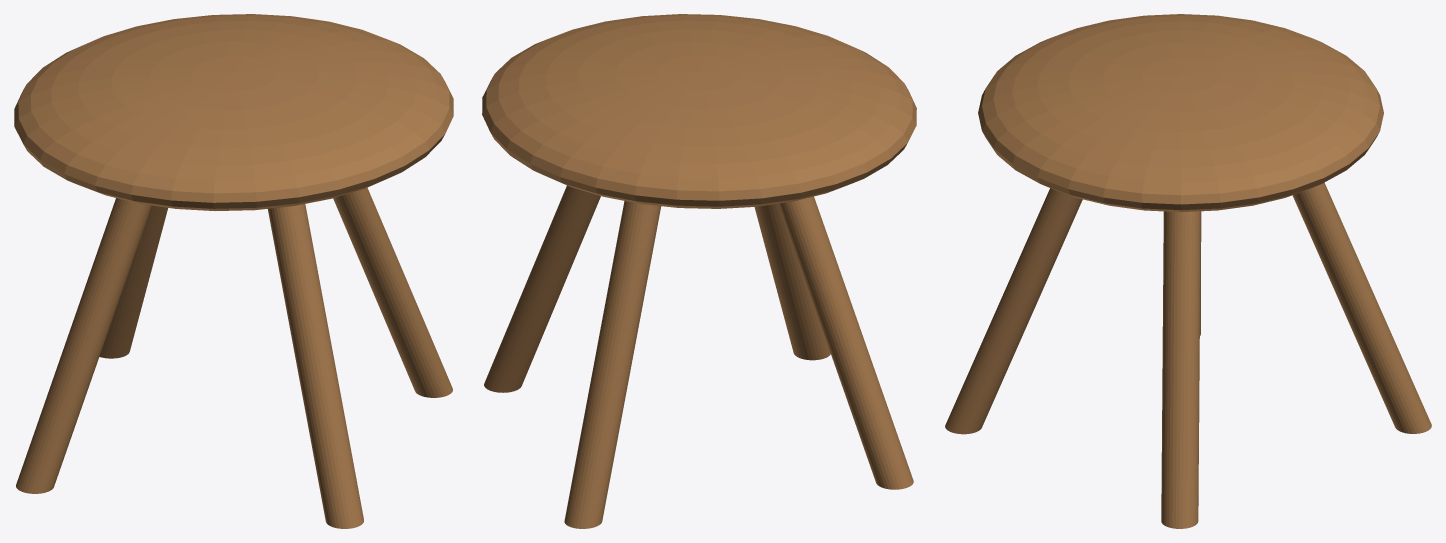
File: stol.glb
The picture shows the model from 3 angles, left to right: view 1: azimuth 30°, elevation 25°; view 2: azimuth 150°, elevation 25°; view 3: azimuth 270°, elevation 25°; orthographic projection. The views are drawn at different scales.
Parts seen in each view (by area): view 1: Sphere, Cylinder004, Cylinder001, Cylinder, Cylinder002; view 2: Sphere, Cylinder002, Cylinder001, Cylinder, Cylinder004; view 3: Sphere, Cylinder, Cylinder002, Cylinder004.
Boxes of the visible parts, x1,y1,x2,y2 form: Sphere: (14,14,453,210); Cylinder004: (268,204,363,528); Cylinder001: (16,198,151,493); Cylinder: (333,187,452,397); Cylinder002: (99,205,167,358); Sphere: (482,14,916,208); Cylinder002: (564,201,661,528); Cylinder001: (778,196,913,489); Cylinder: (484,185,600,392); Cylinder004: (754,204,830,360); Sphere: (978,14,1383,211); Cylinder: (1161,211,1200,528); Cylinder002: (1292,182,1431,433); Cylinder004: (945,188,1082,434).
Size of the model in its own units: 5.61 by 4.54 by 5.68.
